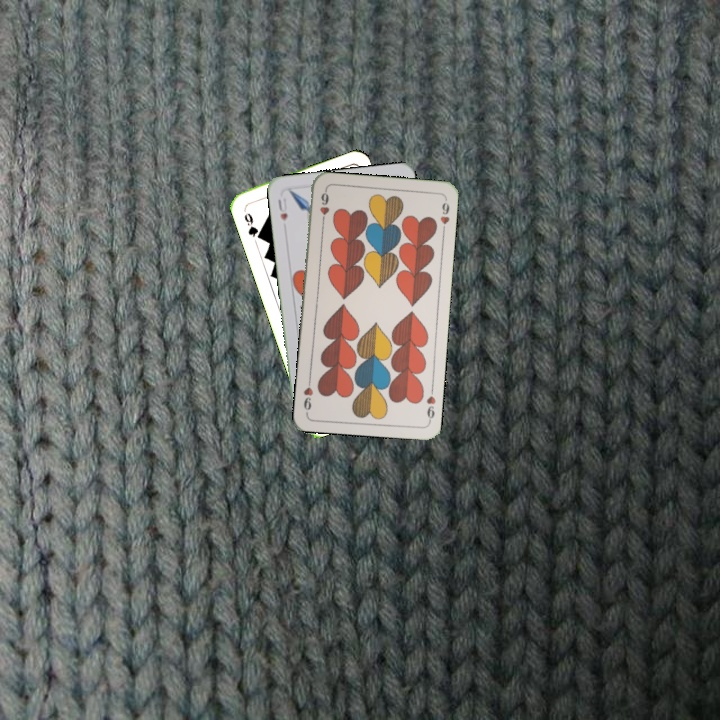G9: (240, 209, 264, 242)
H9: (316, 187, 332, 227), (422, 384, 438, 424)
HU: (274, 192, 290, 223)
